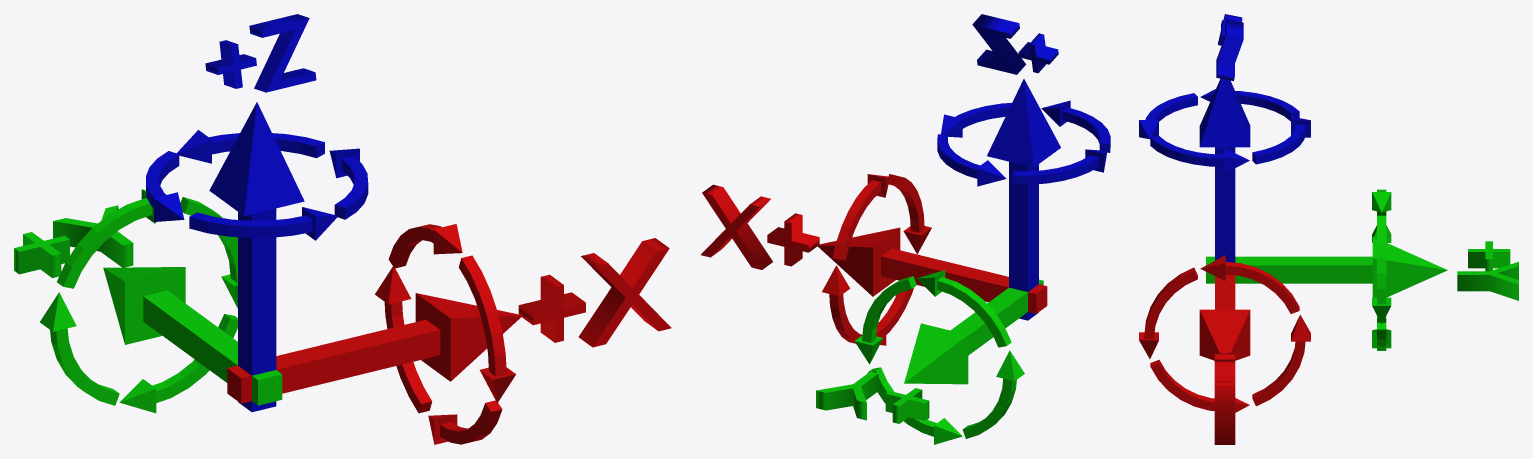
Rendered from blndrCoordTool.obj.
3 views of the same model, side by side, from view 1: azimuth 30°, elevation 25°; view 2: azimuth 150°, elevation 25°; view 3: azimuth 270°, elevation 25° (orthographic). The views are drawn at different scales.
Parts seen in each view (by area): view 1: Cube, Cube.002, Cube.001, Cylinder.001, Cylinder, Cylinder.002, Text, Text.001, Text.002; view 2: Cube, Cube.002, Cylinder.002, Cylinder, Cube.001, Cylinder.001, Text, Text.001, Text.002; view 3: Cube.001, Cylinder.001, Cube, Cylinder, Cube.002, Text.002, Cylinder.002, Text, Text.001.
Part boxes in pixels (x1=…): Cube: x1=209, y1=102, x2=304, y2=412; Cube.002: x1=227, y1=293, x2=522, y2=403; Cube.001: x1=103, y1=267, x2=282, y2=405; Cylinder.001: x1=375, y1=224, x2=515, y2=444; Cylinder: x1=146, y1=130, x2=368, y2=240; Cylinder.002: x1=40, y1=189, x2=237, y2=413; Text: x1=518, y1=238, x2=671, y2=347; Text.001: x1=205, y1=14, x2=316, y2=92; Text.002: x1=14, y1=205, x2=133, y2=277; Cube: x1=987, y1=79, x2=1060, y2=320; Cube.002: x1=816, y1=227, x2=1047, y2=313; Cylinder.002: x1=854, y1=270, x2=1024, y2=444; Cylinder: x1=937, y1=100, x2=1110, y2=186; Cube.001: x1=904, y1=279, x2=1043, y2=384; Cylinder.001: x1=822, y1=174, x2=931, y2=345; Text: x1=701, y1=184, x2=819, y2=269; Text.001: x1=972, y1=14, x2=1058, y2=74; Text.002: x1=816, y1=371, x2=929, y2=423; Cube.001: x1=1206, y1=237, x2=1447, y2=297; Cylinder.001: x1=1139, y1=255, x2=1310, y2=412; Cube: x1=1199, y1=78, x2=1250, y2=262; Cylinder: x1=1139, y1=89, x2=1310, y2=173; Cube.002: x1=1199, y1=274, x2=1250, y2=360; Text.002: x1=1457, y1=241, x2=1518, y2=300; Cylinder.002: x1=1372, y1=189, x2=1391, y2=350; Text: x1=1214, y1=353, x2=1235, y2=444; Text.001: x1=1216, y1=14, x2=1243, y2=81.
Bounding box in the file's own units: 21.03 × 17.96 × 18.69.
